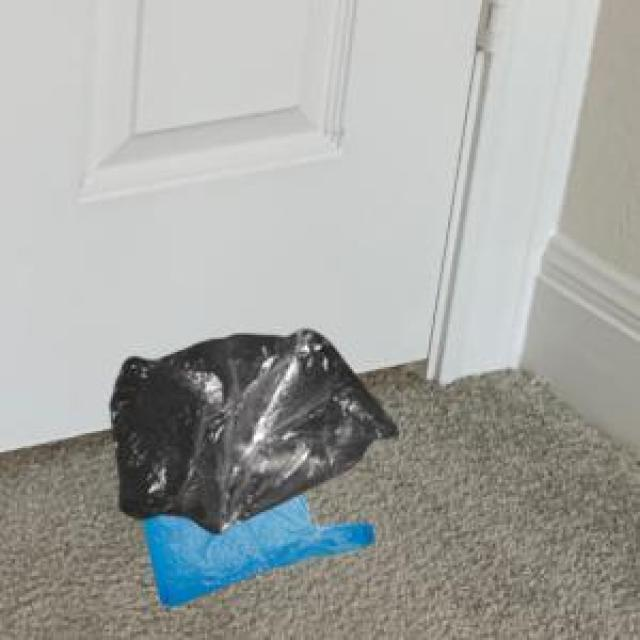plastic: (70, 291, 423, 609)
